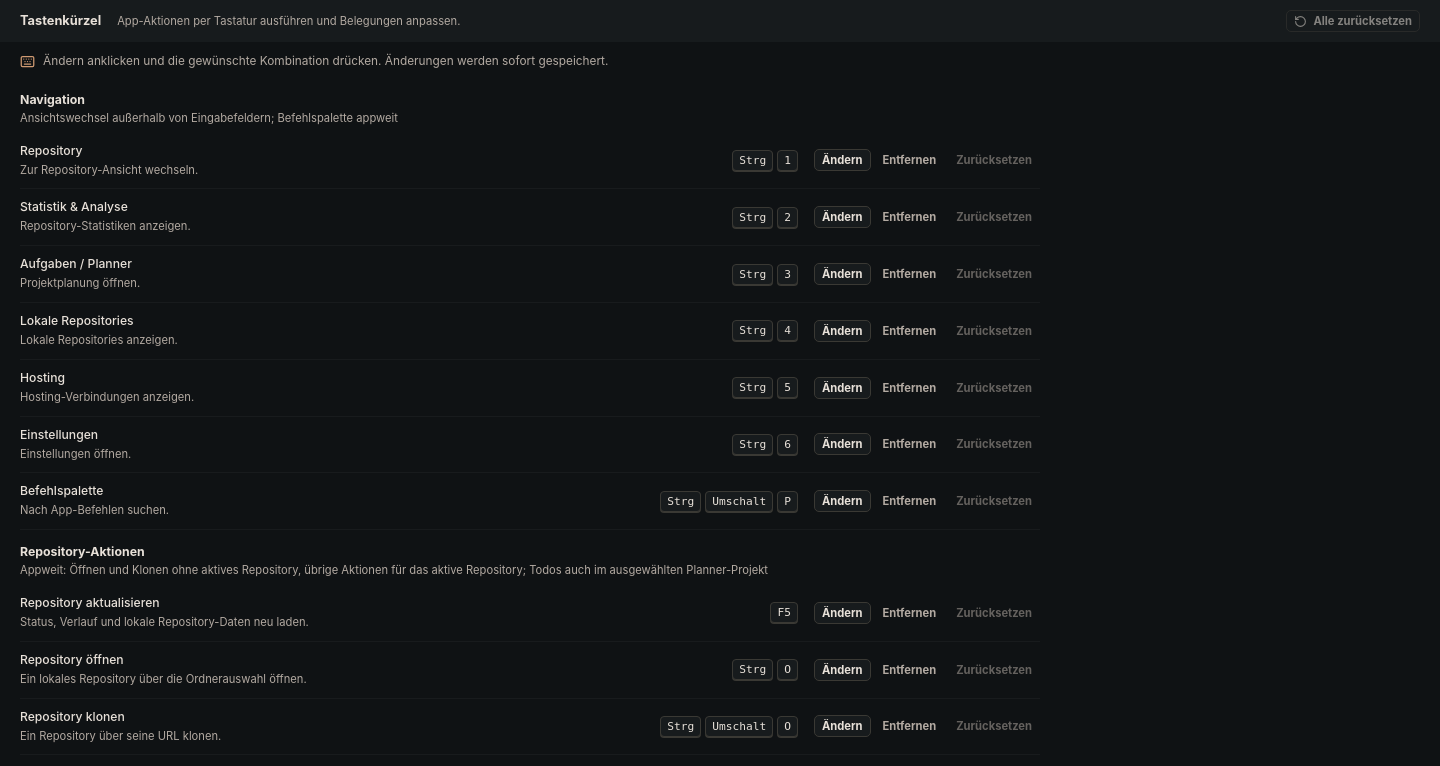
Test: keyboard shortcuts settings › records, disables and resets refresh
Click the button "Ändern" next to "F5".
click(842, 613)  # box [814,602,870,624]
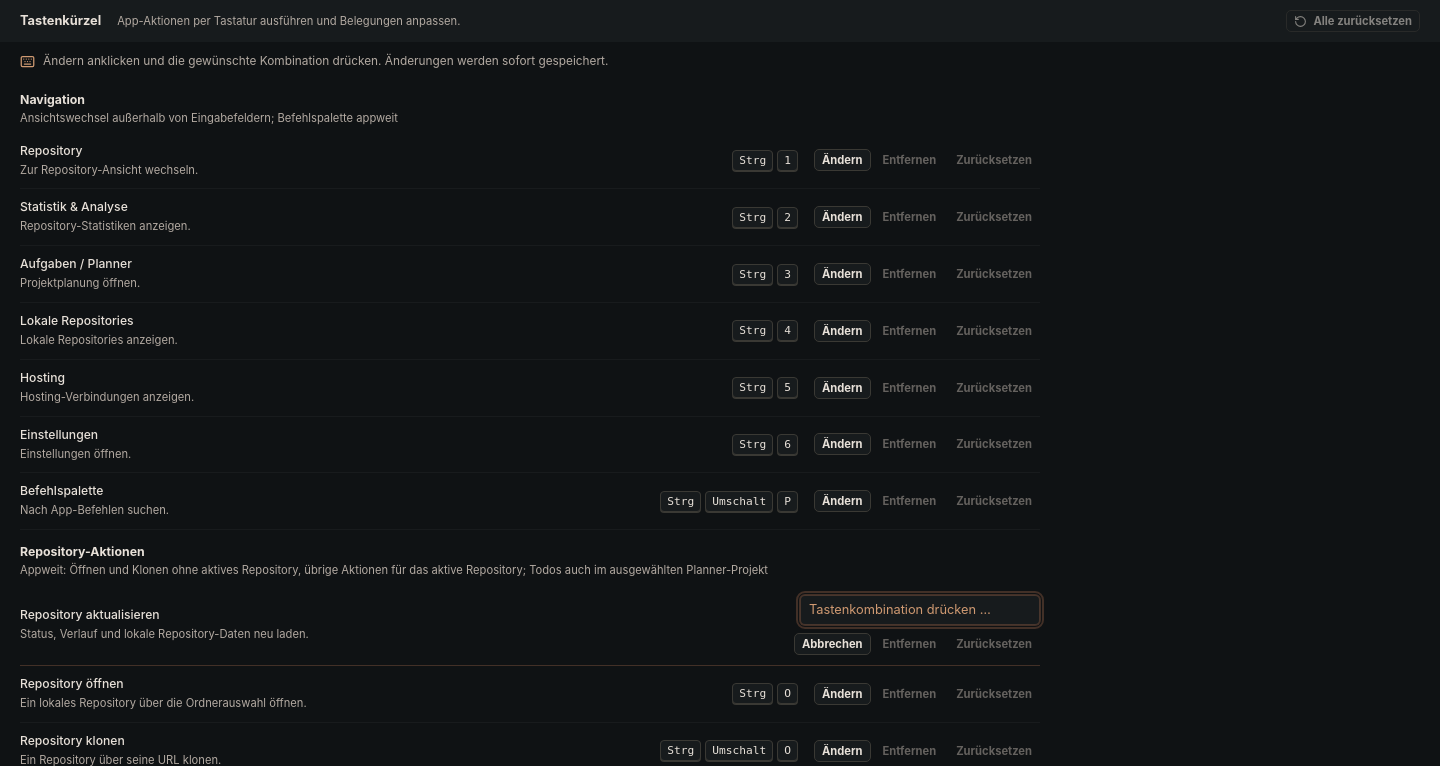
Press F9 in the field named "Tastenkürzel für Repository aktualisieren aufnehmen", box [800,595,1040,625]
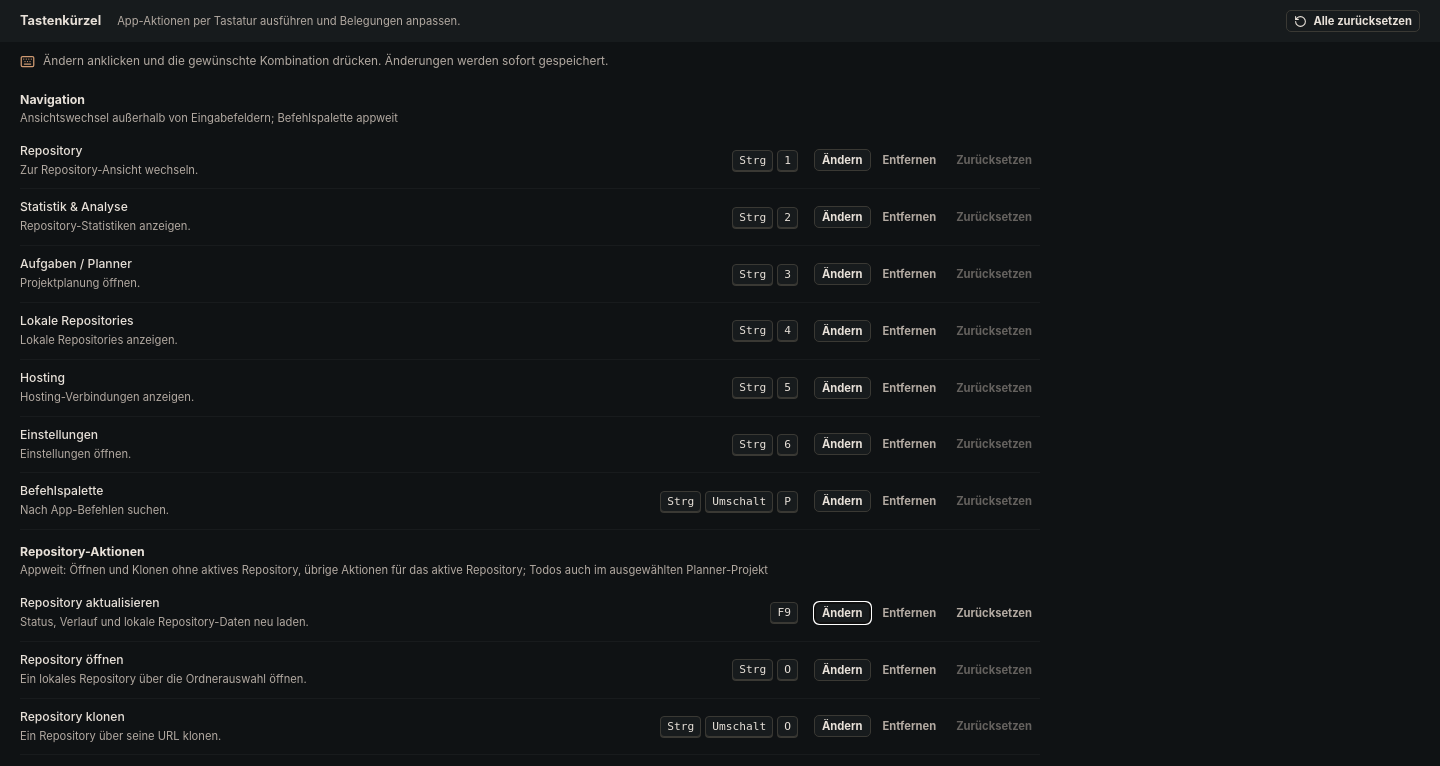
Click the button "Entfernen" in the row of "F9".
click(909, 613)  # box [875,602,944,624]
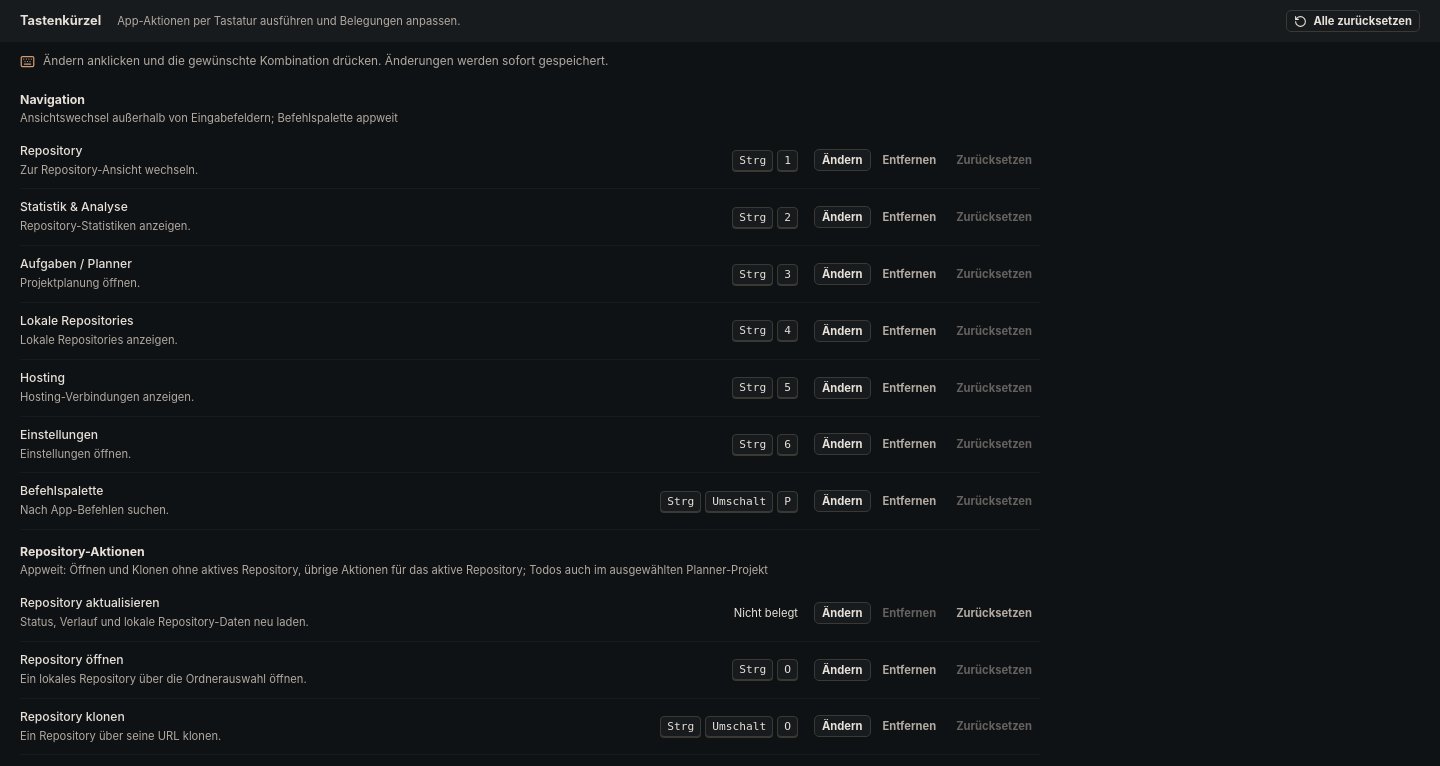
Click the button "Zurücksetzen" in the row of "Nicht belegt".
click(994, 613)  # box [948,602,1040,624]
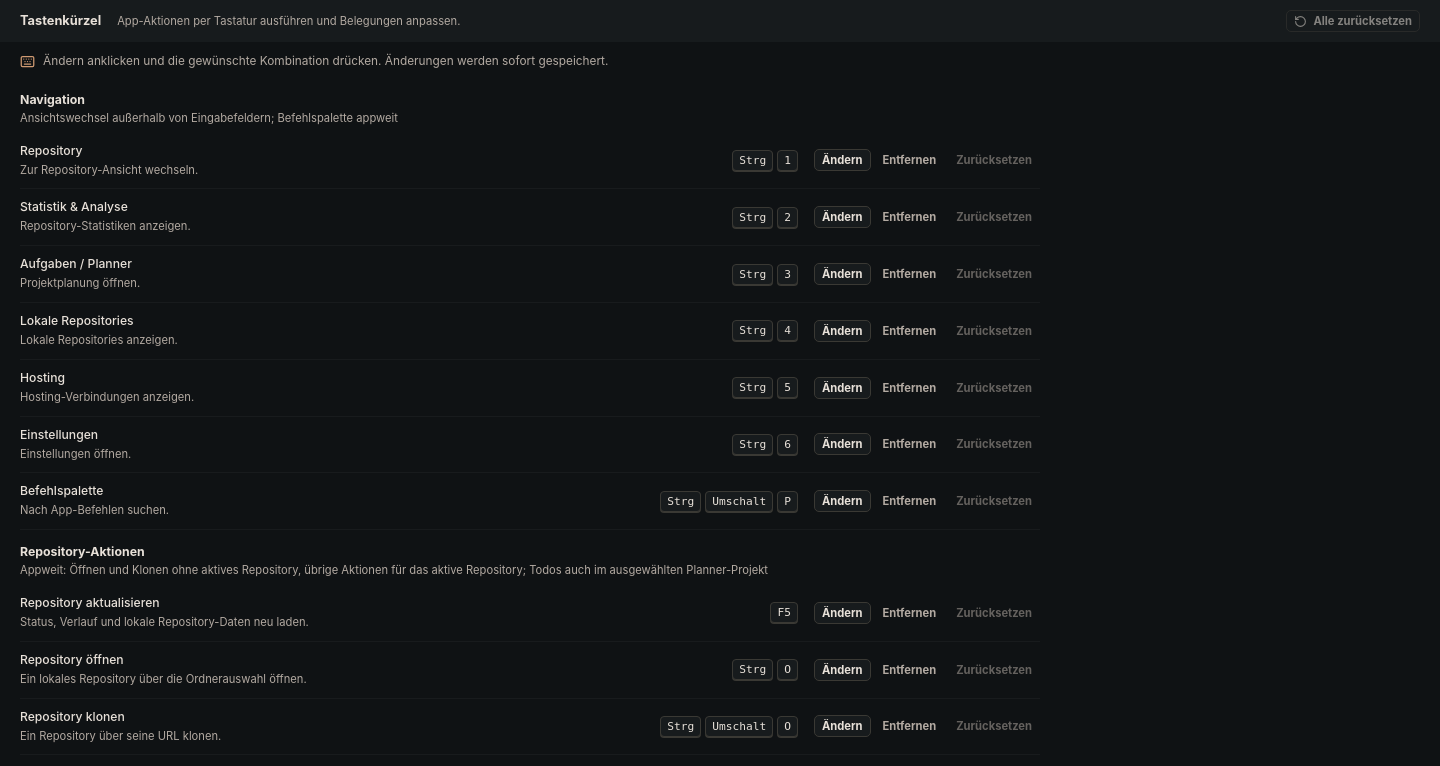
expect the element with class "shortcut-binding" reads "F5": met, box [777,606,791,619]
